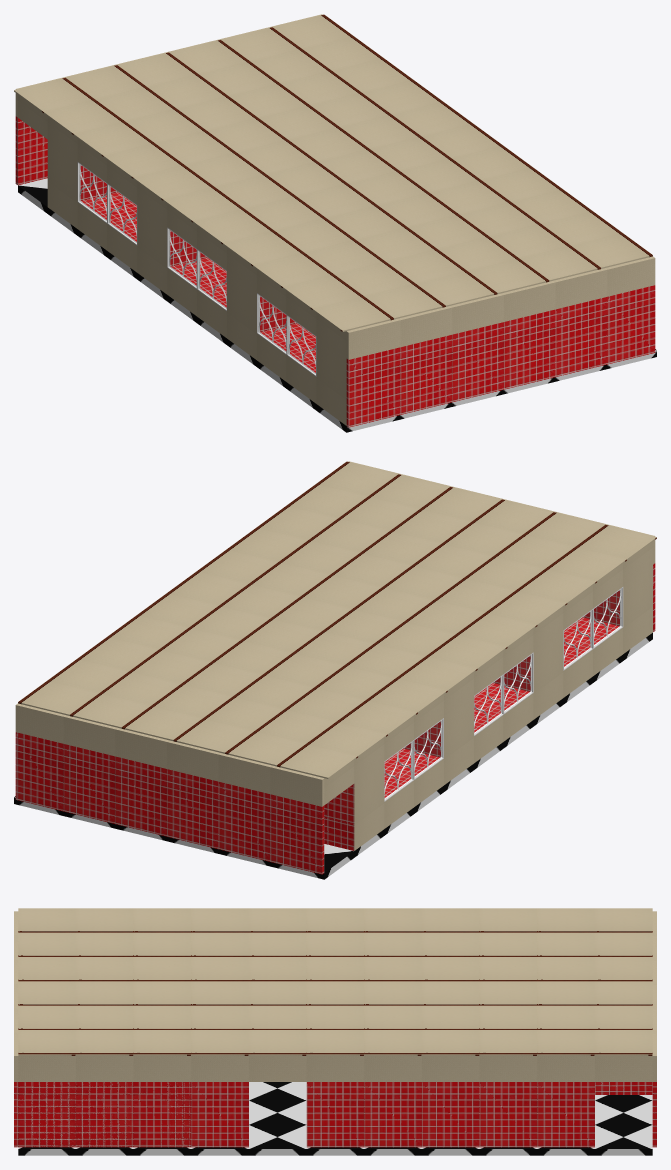
The model's file is Kitchen.fbx.
3 renders of one model, top to bottom at view 1: azimuth 30°, elevation 25°; view 2: azimuth 150°, elevation 25°; view 3: azimuth 270°, elevation 25°, orthographic. The views are drawn at different scales.
Parts seen in each view (by area): view 1: KitchenCeiling, KitchenWallB0Back.001, KitchenWallB0Back, KitchenWallB1Right.003, KitchenFloorTiles, KitchenWallB0Back.002, KitchenWallB0Back.003, KitchenWallB0Front, KitchenWallB1Right.002, KitchenWindow.004, KitchenWindow.005, KitchenWindow; view 2: KitchenCeiling, KitchenWallB0Back.001, KitchenWallB0Front, KitchenWallB1Right.001, KitchenWallB0Back.002, KitchenFloorTiles, KitchenWallB0Front.001, KitchenWallB1Right.004, KitchenWindow.003, KitchenWindow.001, KitchenWindow; view 3: KitchenCeiling, KitchenWallB0Right, KitchenWallB1Right, KitchenFloorTiles, Fridge, KitchenWallB0Right.001, KitchenWallB0Front.002, KitchenWallB1Right.003, KitchenWallB1Right.001.
Boxes of the visible parts, <box> form: KitchenCeiling: <box>14,14,652,331</box>; KitchenWallB0Back.001: <box>77,138,346,425</box>; KitchenWallB0Back: <box>346,297,607,427</box>; KitchenWallB1Right.003: <box>346,268,607,359</box>; KitchenFloorTiles: <box>18,178,656,432</box>; KitchenWallB0Back.002: <box>18,95,117,228</box>; KitchenWallB0Back.003: <box>607,285,655,364</box>; KitchenWallB0Front: <box>15,116,47,185</box>; KitchenWallB1Right.002: <box>605,256,655,296</box>; KitchenWindow.004: <box>107,184,137,245</box>; KitchenWindow.005: <box>77,162,107,223</box>; KitchenWindow: <box>286,315,316,376</box>; KitchenCeiling: <box>18,461,656,778</box>; KitchenWallB0Back.001: <box>384,542,652,828</box>; KitchenWallB0Front: <box>63,744,324,874</box>; KitchenWallB1Right.001: <box>63,715,324,806</box>; KitchenWallB0Back.002: <box>324,738,384,850</box>; KitchenFloorTiles: <box>14,633,652,879</box>; KitchenWallB0Front.001: <box>15,732,63,811</box>; KitchenWallB1Right.004: <box>15,703,65,743</box>; KitchenWindow.003: <box>503,652,533,714</box>; KitchenWindow.001: <box>563,609,593,670</box>; KitchenWindow: <box>593,587,623,648</box>; KitchenCeiling: <box>18,908,652,1055</box>; KitchenWallB0Right: <box>306,1082,594,1147</box>; KitchenWallB1Right: <box>18,1056,652,1081</box>; KitchenFloorTiles: <box>18,1082,652,1155</box>; Fridge: <box>18,1082,191,1147</box>; KitchenWallB0Right.001: <box>19,1082,248,1147</box>; KitchenWallB0Front.002: <box>595,1082,652,1094</box>; KitchenWallB1Right.003: <box>14,911,18,1033</box>; KitchenWallB1Right.001: <box>652,911,656,1033</box>.
Size of the model in its own units: 1215 by 380 by 2230.
